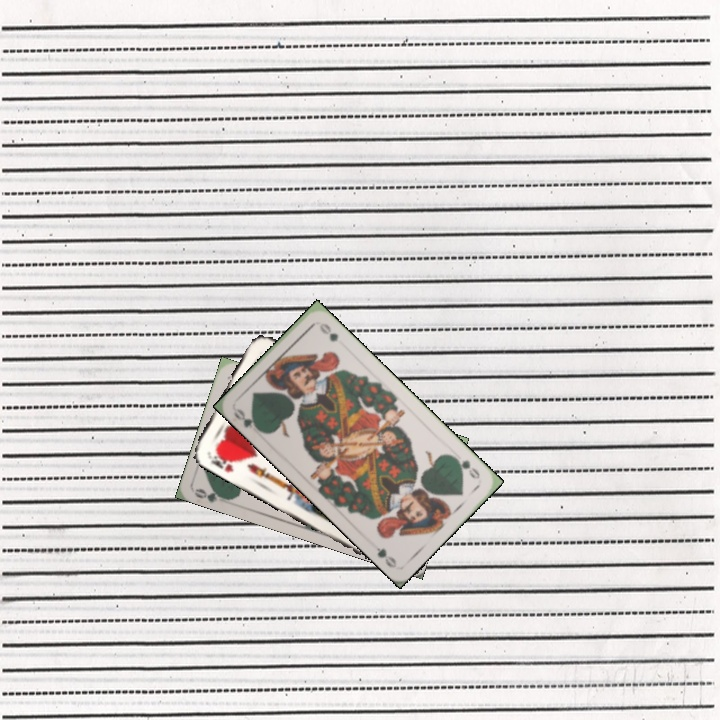GO: (229, 404, 265, 435), (449, 452, 482, 482), (191, 483, 233, 505)
HK: (204, 446, 239, 475)
